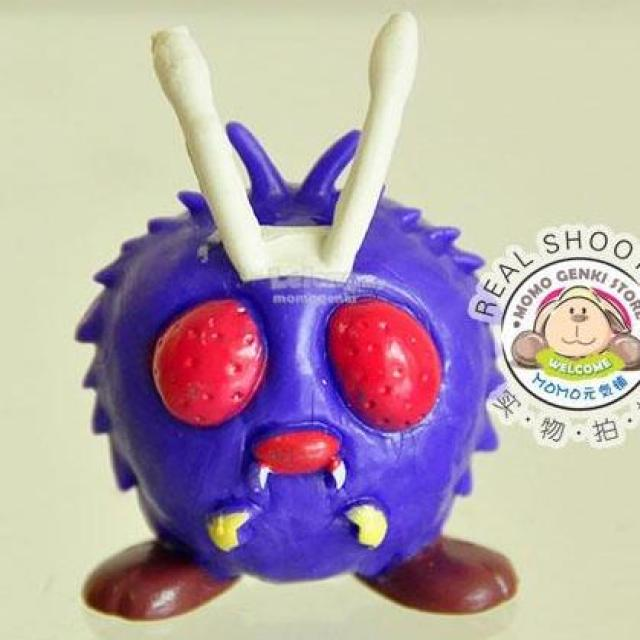Venonat: (76, 131, 497, 614)
